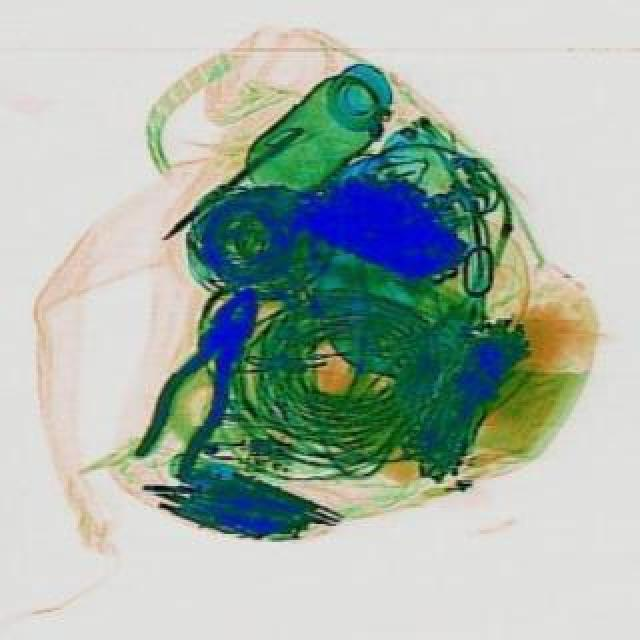wrench: (116, 270, 288, 486)
